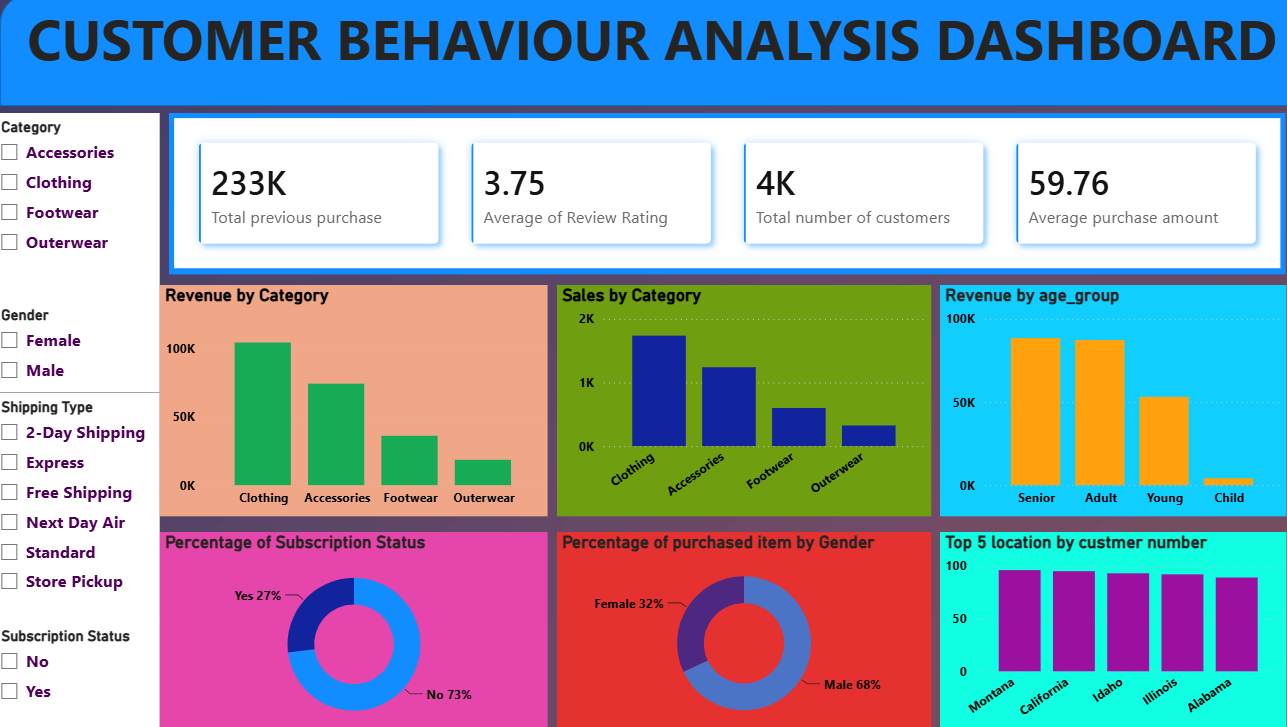

This screenshot's page, from the dashboard's own definition file:
{"tool":"powerbi","page":{"name":"Page 1","canvas":[1280,720],"ordinal":0},"visuals":[{"type":"cardVisual","fields":{"Data":["customer_shopping_behavior (1).Total previous purchase","customer_shopping_behavior (1).Average of Review Rating","customer_shopping_behavior (1).Total number of customers","customer_shopping_behavior (1).Average purchase amount"]},"box":[176,114.8,1086.4,156.6],"z":0},{"type":"slicer","fields":{"Values":["customer_shopping_behavior (1).Category"]},"box":[0,114.8,167.3,182.9],"z":1000},{"type":"slicer","fields":{"Values":["customer_shopping_behavior (1).Gender"]},"box":[0,297.6,167.3,89.5],"z":2000},{"type":"slicer","fields":{"Values":["customer_shopping_behavior (1).Shipping Type"]},"box":[0,387.1,167.3,222.7],"z":3000},{"type":"slicer","fields":{"Values":["customer_shopping_behavior (1).Subscription Status"]},"box":[0,609.8,167.3,109.9],"z":4000},{"type":"columnChart","title":"Revenue by Category","fields":{"Category":["customer_shopping_behavior (1).Category"],"Y":["Sum(customer_shopping_behavior (1).Purchase Amount (USD))"]},"box":[167.3,282.1,377.4,224.7],"z":5000},{"type":"columnChart","title":"Sales by Category","fields":{"Category":["customer_shopping_behavior (1).Category"],"Y":["CountNonNull(customer_shopping_behavior (1).Customer ID)"]},"box":[553.4,282.1,363.8,224.7],"z":6000},{"type":"columnChart","title":"Revenue by age_group","fields":{"Category":["customer_shopping_behavior (1).age_group"],"Y":["Sum(customer_shopping_behavior (1).Purchase Amount (USD))"]},"box":[926,282.1,336.5,224.7],"z":7000},{"type":"donutChart","title":"Percentage of  Subscription Status","fields":{"Y":["CountNonNull(customer_shopping_behavior (1).Customer ID)"],"Category":["customer_shopping_behavior (1).Subscription Status"]},"box":[167.3,522.3,377.4,197.4],"z":8000},{"type":"donutChart","title":"Percentage of purchased item by Gender","fields":{"Category":["customer_shopping_behavior (1).Gender"],"Y":["CountNonNull(customer_shopping_behavior (1).Item Purchased)"]},"box":[553.4,522.3,363.8,197.4],"z":9000},{"type":"columnChart","title":"Top 5 location by custmer number","fields":{"Y":["CountNonNull(customer_shopping_behavior (1).Customer ID)"],"Category":["customer_shopping_behavior (1).Location"]},"box":[926,522.3,336.5,196.5],"z":9001},{"type":"shape","box":[11.7,0,1268.3,108],"z":9002},{"type":"textbox","box":[11.7,0,1268.3,108],"z":9003}]}

Visuals, with their boxes in screenshot pixels (x1, y1, x2, y2), scaled from the page's 1280x720 canvas onto the 1287x727 screenshot:
cardVisual - customer_shopping_behavior (1).Total previous purchase x customer_shopping_behavior (1).Average of Review Rating: (left=177, top=116, right=1269, bottom=274)
slicer - customer_shopping_behavior (1).Category: (left=0, top=116, right=168, bottom=301)
slicer - customer_shopping_behavior (1).Gender: (left=0, top=300, right=168, bottom=391)
slicer - customer_shopping_behavior (1).Shipping Type: (left=0, top=391, right=168, bottom=616)
slicer - customer_shopping_behavior (1).Subscription Status: (left=0, top=616, right=168, bottom=726)
"Revenue by Category" columnChart: (left=168, top=285, right=548, bottom=512)
"Sales by Category" columnChart: (left=556, top=285, right=922, bottom=512)
"Revenue by age_group" columnChart: (left=931, top=285, right=1269, bottom=512)
"Percentage of  Subscription Status" donutChart: (left=168, top=527, right=548, bottom=726)
"Percentage of purchased item by Gender" donutChart: (left=556, top=527, right=922, bottom=726)
"Top 5 location by custmer number" columnChart: (left=931, top=527, right=1269, bottom=726)
shape: (left=12, top=0, right=1286, bottom=109)
textbox: (left=12, top=0, right=1286, bottom=109)
